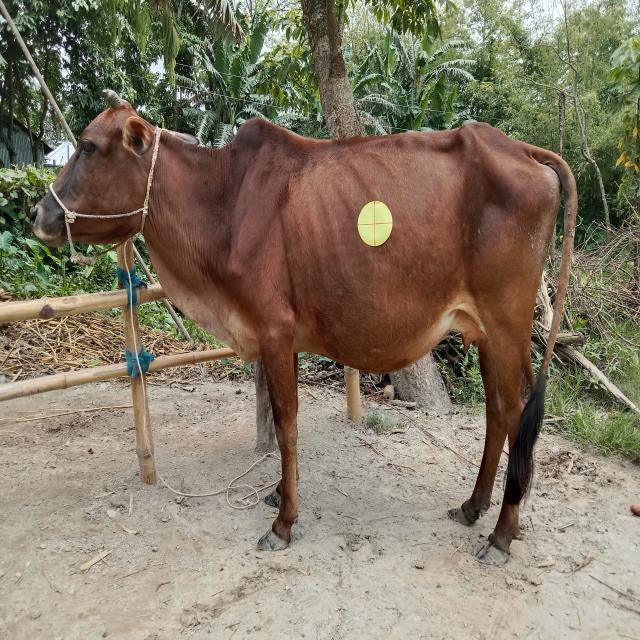badan_sapi: (222, 129, 556, 368)
sapi: (20, 71, 590, 578)
